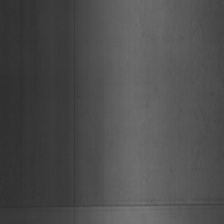welding_line: (1, 196, 224, 213)
